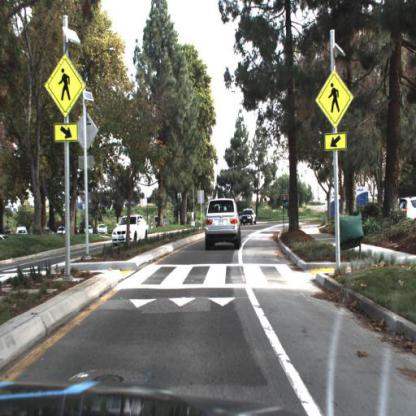car: (203, 197, 242, 252), (107, 213, 150, 247), (238, 205, 260, 230), (239, 206, 259, 228)
